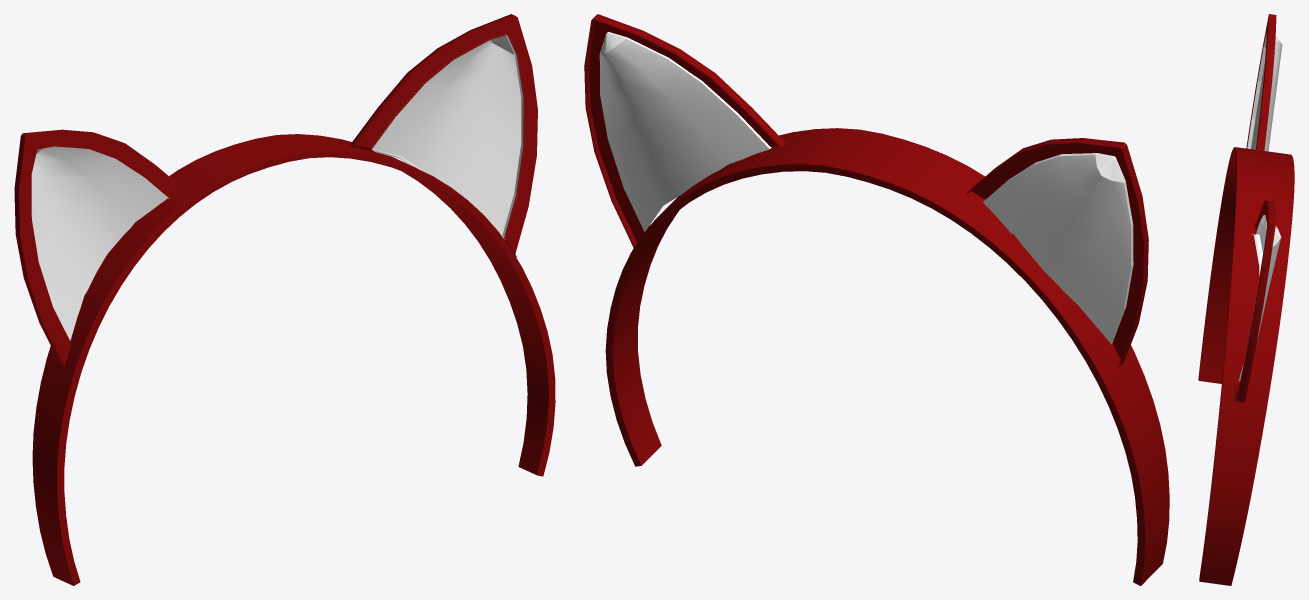
Rendered from Cat_ear_headband_Girl.fbx.
3 views of the same model, side by side, from view 1: azimuth 30°, elevation 25°; view 2: azimuth 150°, elevation 25°; view 3: azimuth 270°, elevation 25° (orthographic). The views are drawn at different scales.
Parts seen in each view (by area): view 1: Cat_ear_headband; view 2: Cat_ear_headband; view 3: Cat_ear_headband.
Part boxes in pixels (box(x1,y1,x2,y2)): Cat_ear_headband: box(14, 14, 555, 585); Cat_ear_headband: box(584, 14, 1169, 585); Cat_ear_headband: box(1198, 14, 1294, 585).
Bounding box in the file's own units: 60.62 × 48.39 × 11.34.
